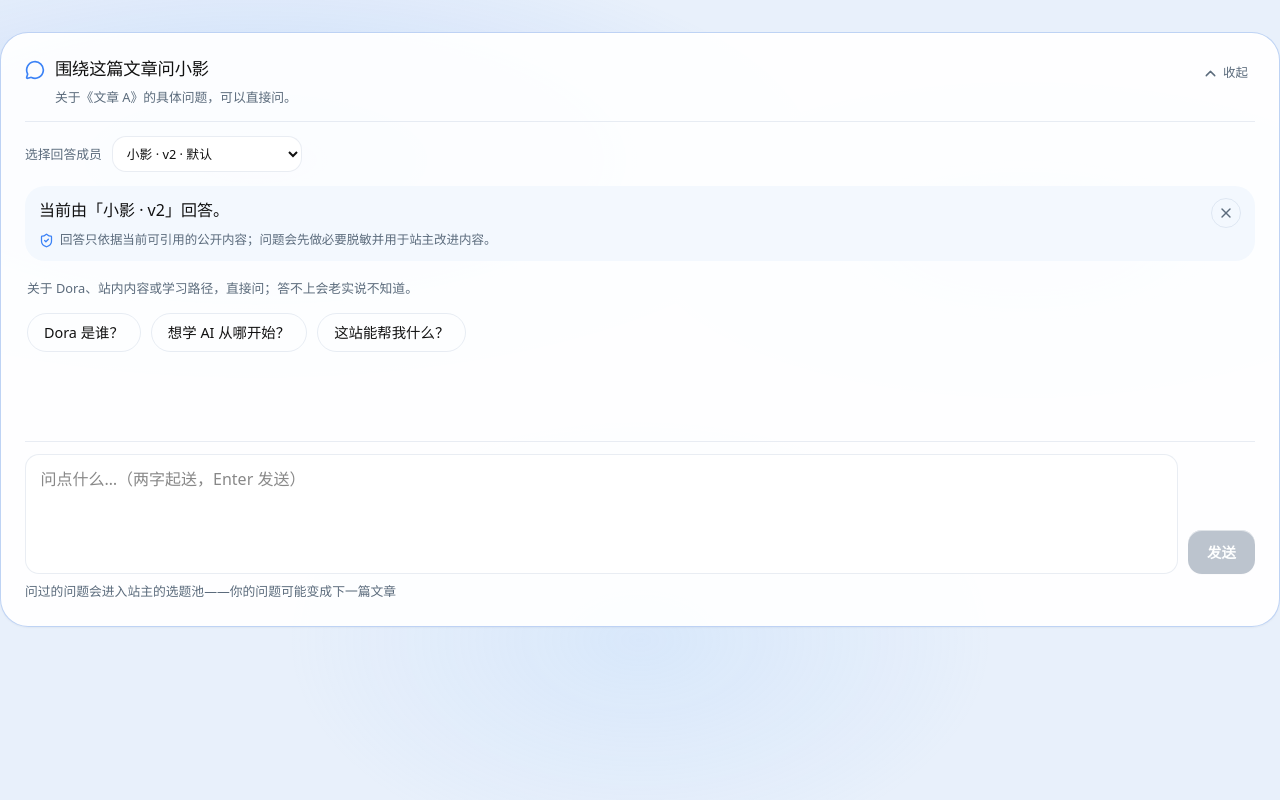
Test: ArticleAssistantPanel › 页面使用过期部署代次时刷新成员并提示访客重新确认
Click the button "Dora 是谁？".
click(84, 332)  # box 27,313 -> 141,352
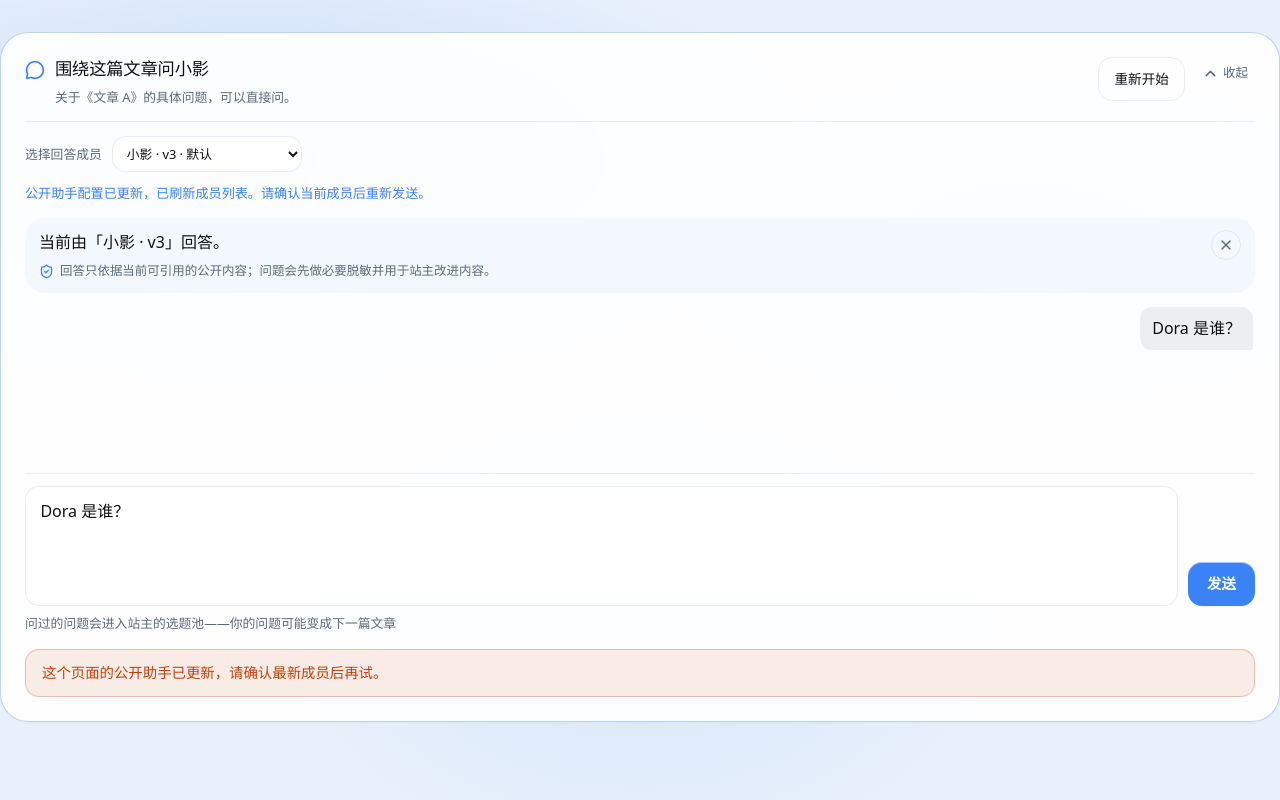
Expected: the dropdown labelled "选择回答成员" shows "小影 · v3 · 默认", 112,136 -> 302,172
Now the text "公开助手配置已更新，已刷新成员列表。请确认当前成员后重新发送。" is shown, box 25,184 -> 431,202
Now the text "这个页面的公开助手已更新，请确认最新成员后再试。" is shown, box 25,649 -> 1255,697
